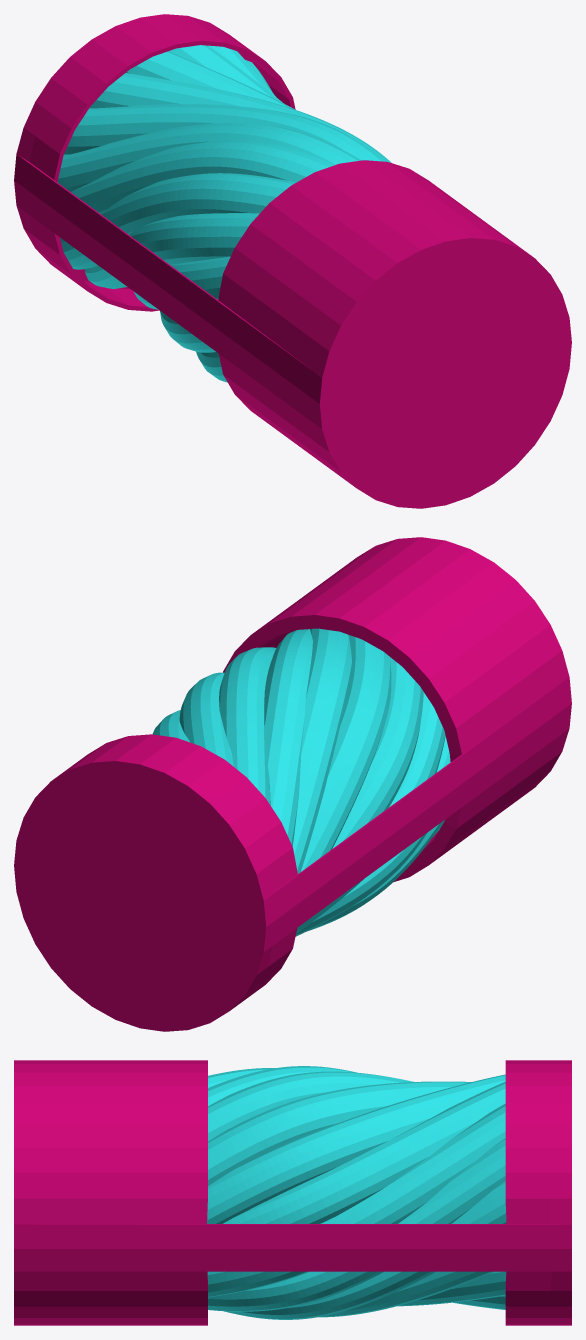
File: Power _Line_End.fbx
3 renders of one model, top to bottom at view 1: azimuth 30°, elevation 25°; view 2: azimuth 150°, elevation 25°; view 3: azimuth 270°, elevation 25°, orthographic. The views are drawn at different scales.
Visible parts, largest first — view 1: Power_Cable_LOD0; view 2: Power_Cable_LOD0; view 3: Power_Cable_LOD0.
Boxes of the visible parts, x1,y1,x2,y2 form: Power_Cable_LOD0: [14, 14, 571, 508]; Power_Cable_LOD0: [14, 537, 571, 1031]; Power_Cable_LOD0: [14, 1060, 571, 1325].
Size of what is drawn, in the model's own units: 200 by 200 by 420.
